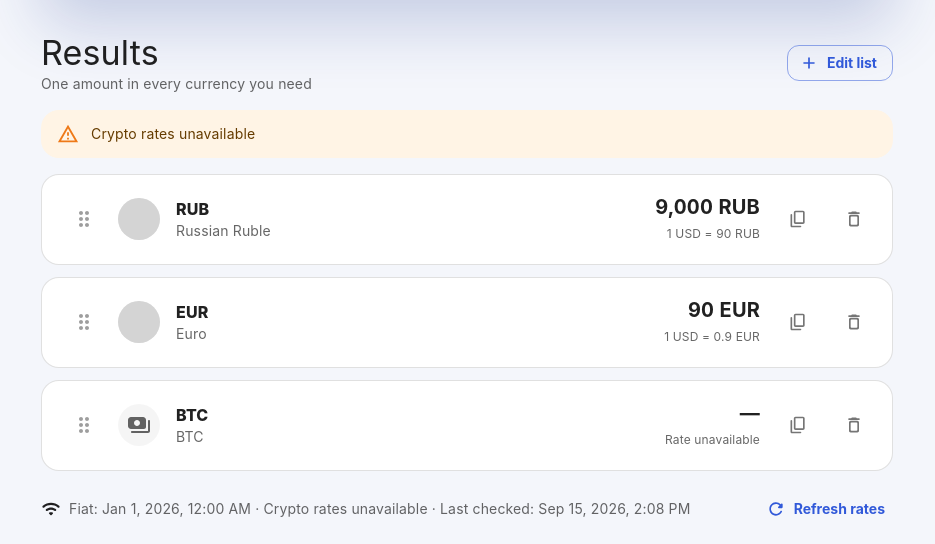
Test: App rate states and controls › refreshes and clears a transient provider warning
(page scrolled)
expect the text "Crypto rates unavailable" is shown: met, box [91,125,255,142]
Click the button "Refresh rates": (827, 509) [762,491,893,527]
(page scrolled)
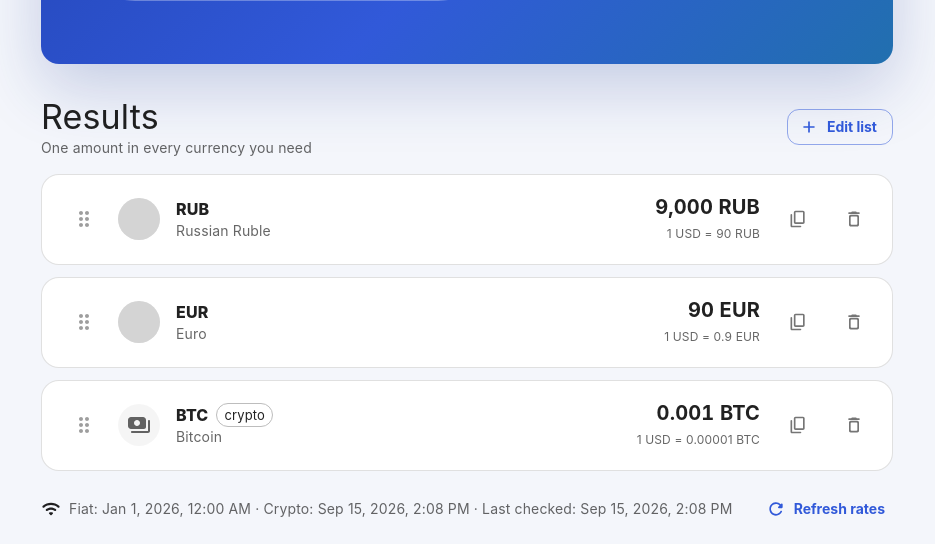
expect the text "Crypto rates unavailable" is gone: met
